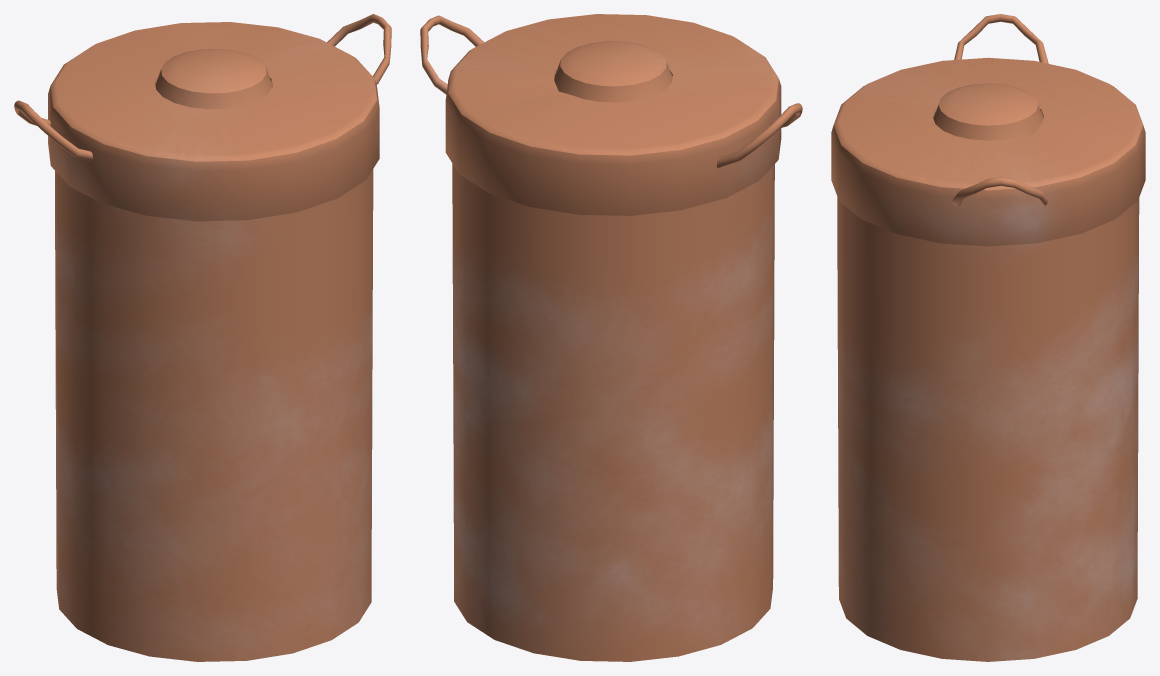
File: pot_3.fbx
3 views of the same model, side by side, from view 1: azimuth 30°, elevation 25°; view 2: azimuth 150°, elevation 25°; view 3: azimuth 270°, elevation 25° (orthographic). The views are drawn at different scales.
Parts seen in each view (by area): view 1: pot_3; view 2: pot_3; view 3: pot_3.
Part boxes in pixels (x1,y1,x2,y2): pot_3: (14, 14, 391, 661); pot_3: (420, 14, 802, 661); pot_3: (831, 14, 1145, 661).
Bounding box in the file's own units: 29.58 × 41.47 × 23.59.
